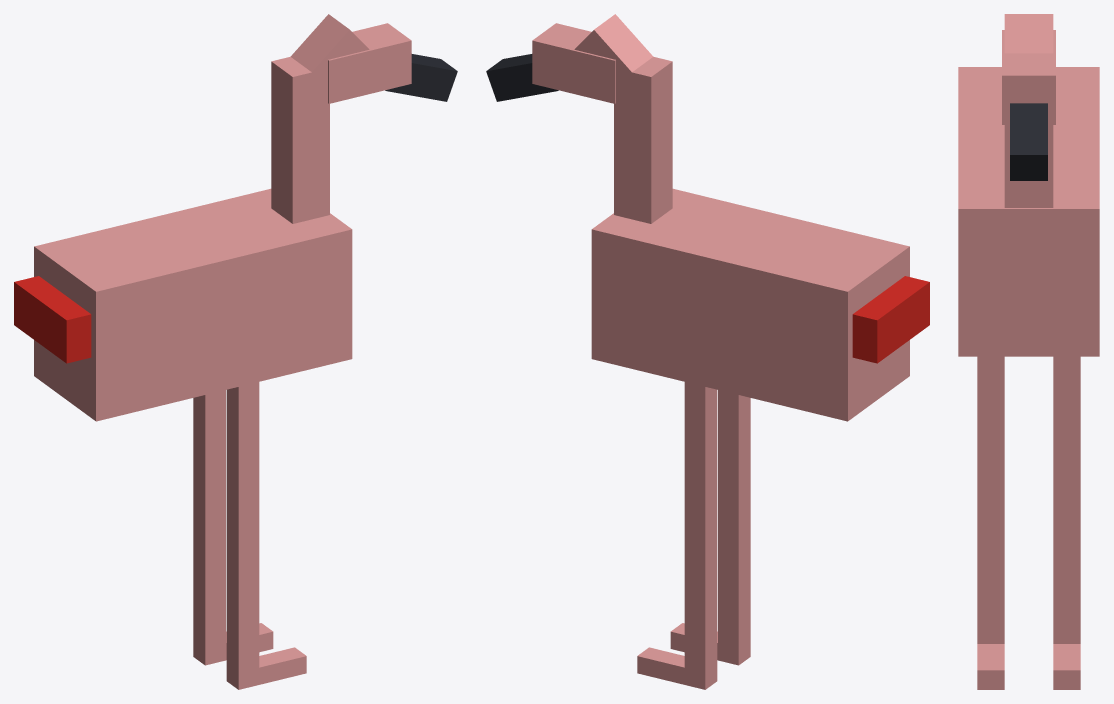
File: flamenco.obj
3 views of the same model, side by side, from view 1: azimuth 30°, elevation 25°; view 2: azimuth 150°, elevation 25°; view 3: azimuth 270°, elevation 25° (orthographic). The views are drawn at different scales.
Visible parts, largest first — view 1: flamenco; view 2: flamenco; view 3: flamenco.
Boxes of the visible parts, bbox=[...] form: flamenco: bbox=[14, 14, 457, 689]; flamenco: bbox=[486, 14, 929, 689]; flamenco: bbox=[958, 14, 1099, 689].
Size of the model in its own units: 0.9904 by 1.44 by 0.26.
